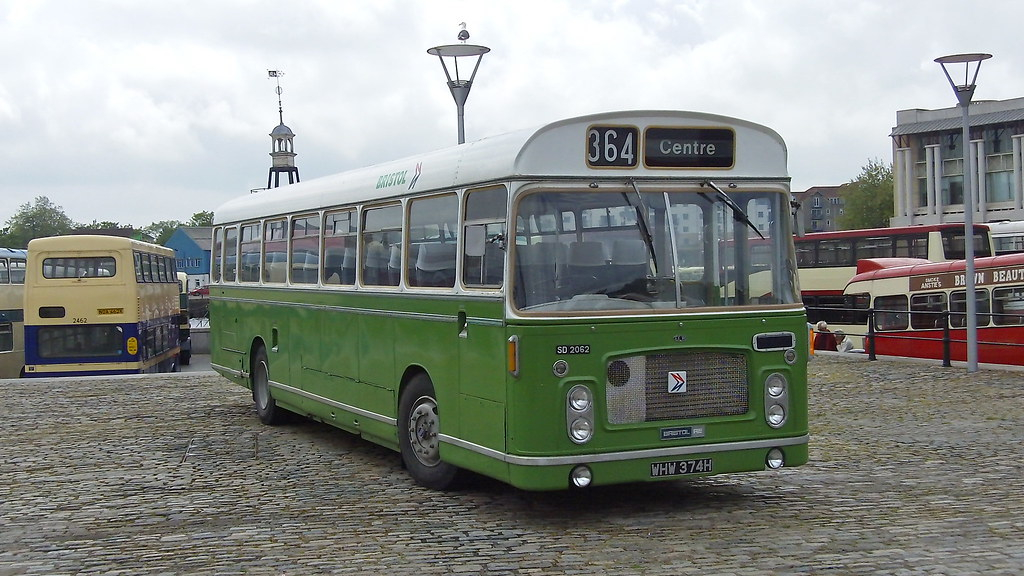bus: (196, 111, 851, 494)
